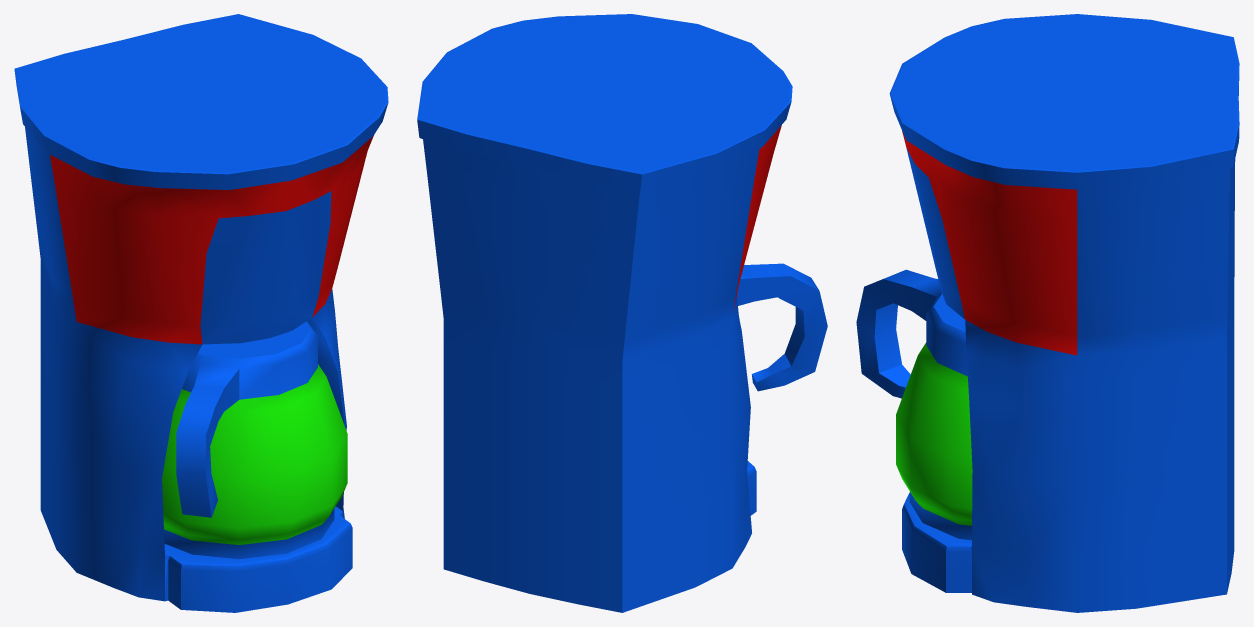
Rendered from hospital_fnt_cafetera2.fbx.
3 views of the same model, side by side, from view 1: azimuth 30°, elevation 25°; view 2: azimuth 150°, elevation 25°; view 3: azimuth 270°, elevation 25° (orthographic). The views are drawn at different scales.
Parts seen in each view (by area): view 1: hospital_fnt_cafetera2; view 2: hospital_fnt_cafetera2; view 3: hospital_fnt_cafetera2.
Part boxes in pixels (box(x1,y1,x2,y2)): hospital_fnt_cafetera2: box(14, 14, 388, 612); hospital_fnt_cafetera2: box(417, 14, 827, 612); hospital_fnt_cafetera2: box(856, 14, 1239, 612).
Bounding box in the file's own units: 23.68 × 31.77 × 24.14.
